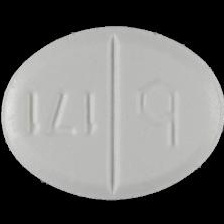21695-449: (0, 0, 224, 224)
